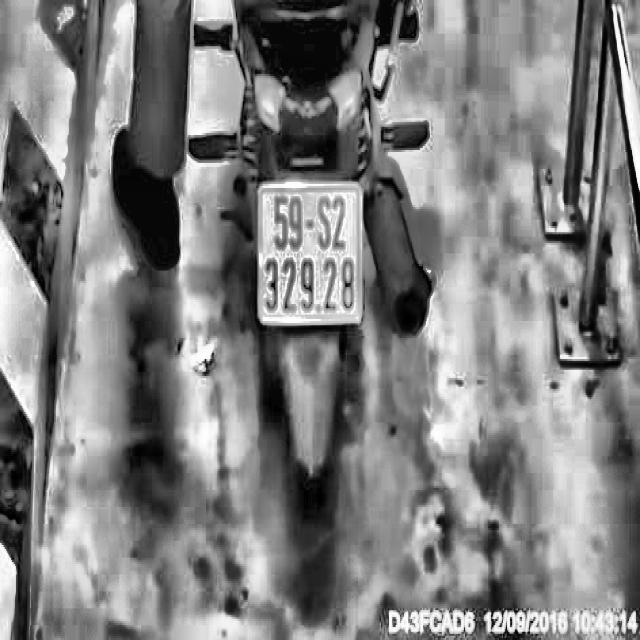plate: (252, 172, 368, 331)
